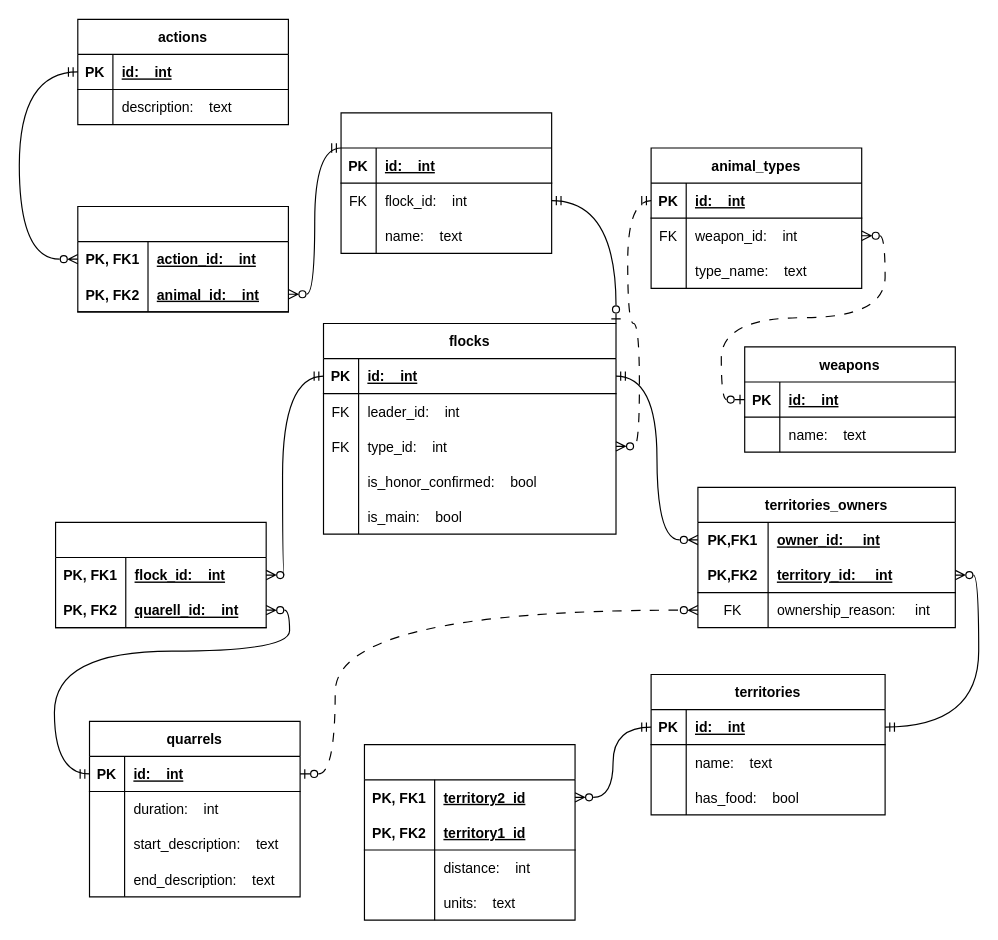
This 998x940 diagram has some shape labels left out. Each missing label, with the box of its shape:
actions_executors: (77, 205, 288, 312)
animals: (340, 112, 552, 253)
distances: (363, 744, 575, 920)
quarrels_participants: (54, 521, 266, 628)
